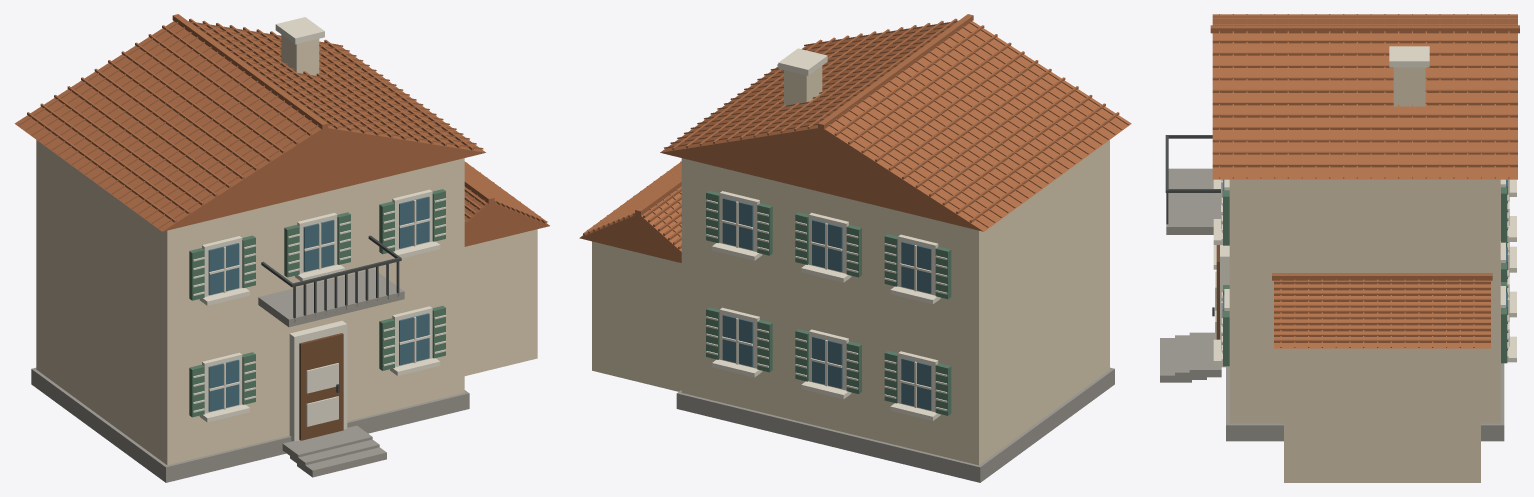
The model's file is villa-2.glb.
3 renders of one model, left to right at view 1: azimuth 30°, elevation 25°; view 2: azimuth 150°, elevation 25°; view 3: azimuth 270°, elevation 25°, orthographic. The views are drawn at different scales.
Parts seen in each view (by area): view 1: villa-2; view 2: villa-2; view 3: villa-2.
Boxes of the visible parts, bbox=[...] form: villa-2: bbox=[14, 14, 549, 482]; villa-2: bbox=[579, 14, 1131, 482]; villa-2: bbox=[1160, 14, 1519, 482].
Bounding box in the file's own units: 10.14 × 7.77 × 7.31.
